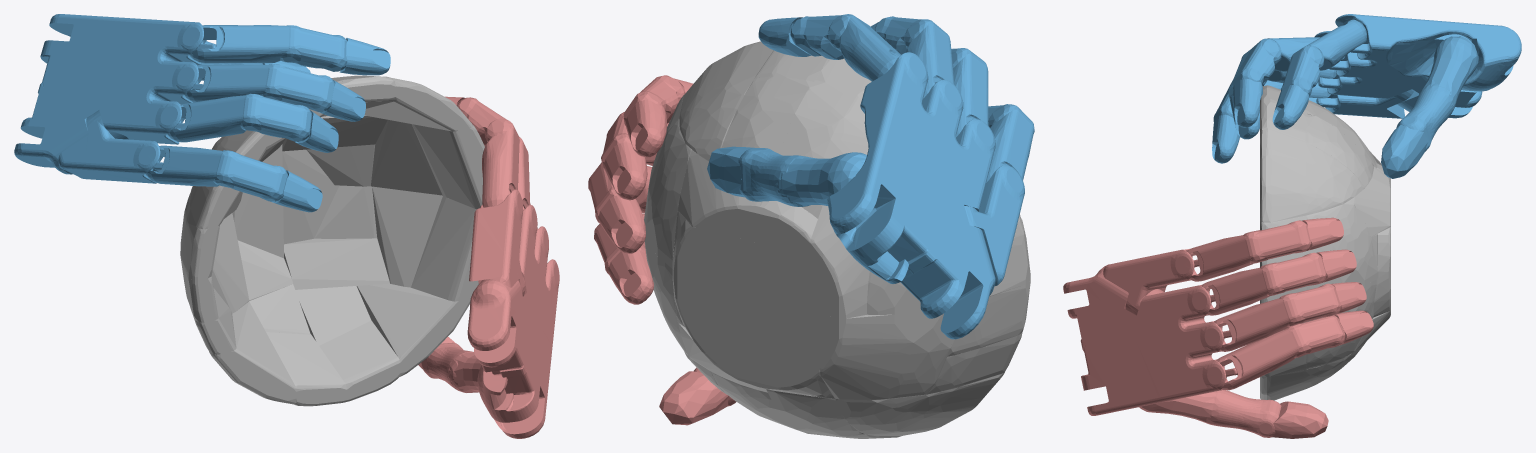
The model's file is Bowl_mesh.glb.
The picture shows the model from 3 angles, left to right: view 1: azimuth 30°, elevation 25°; view 2: azimuth 150°, elevation 25°; view 3: azimuth 270°, elevation 25°; orthographic projection. The views are drawn at different scales.
Parts seen in each view (by area): view 1: geom_0, geom_1, geom_2; view 2: geom_0, geom_1, geom_2; view 3: geom_2, geom_1, geom_0.
Boxes of the visible parts, <box> form: geom_0: <box>180,75,484,406</box>; geom_1: <box>14,14,390,212</box>; geom_2: <box>418,96,559,438</box>; geom_0: <box>644,41,1030,438</box>; geom_1: <box>707,14,1034,339</box>; geom_2: <box>588,75,736,425</box>; geom_2: <box>1063,217,1373,438</box>; geom_1: <box>1212,14,1521,178</box>; geom_0: <box>1260,85,1390,400</box>.
Bounding box in the file's own units: 0.2479 × 0.212 × 0.2652.
